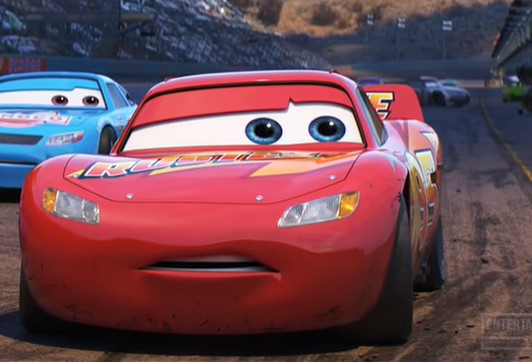mcqueen: (16, 66, 446, 348)
